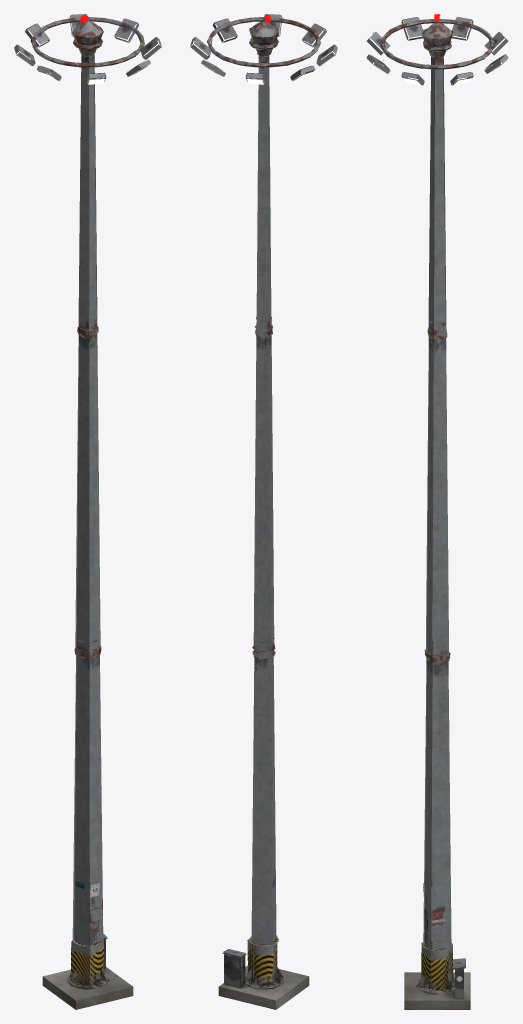
File: light_mast_lod1.glb
3 views of the same model, side by side, from view 1: azimuth 30°, elevation 25°; view 2: azimuth 150°, elevation 25°; view 3: azimuth 270°, elevation 25° (orthographic).
Parts seen in each view (by area): view 1: light_mast; view 2: light_mast; view 3: light_mast.
Boxes of the visible parts, left/top/right/bottom form: light_mast: left=14, top=14, right=161, bottom=1009; light_mast: left=190, top=14, right=337, bottom=1009; light_mast: left=366, top=14, right=508, bottom=1009.
Size of what is drawn, in the model's own units: 4.01 by 30.43 by 4.01.
1 material, 1 textured.
